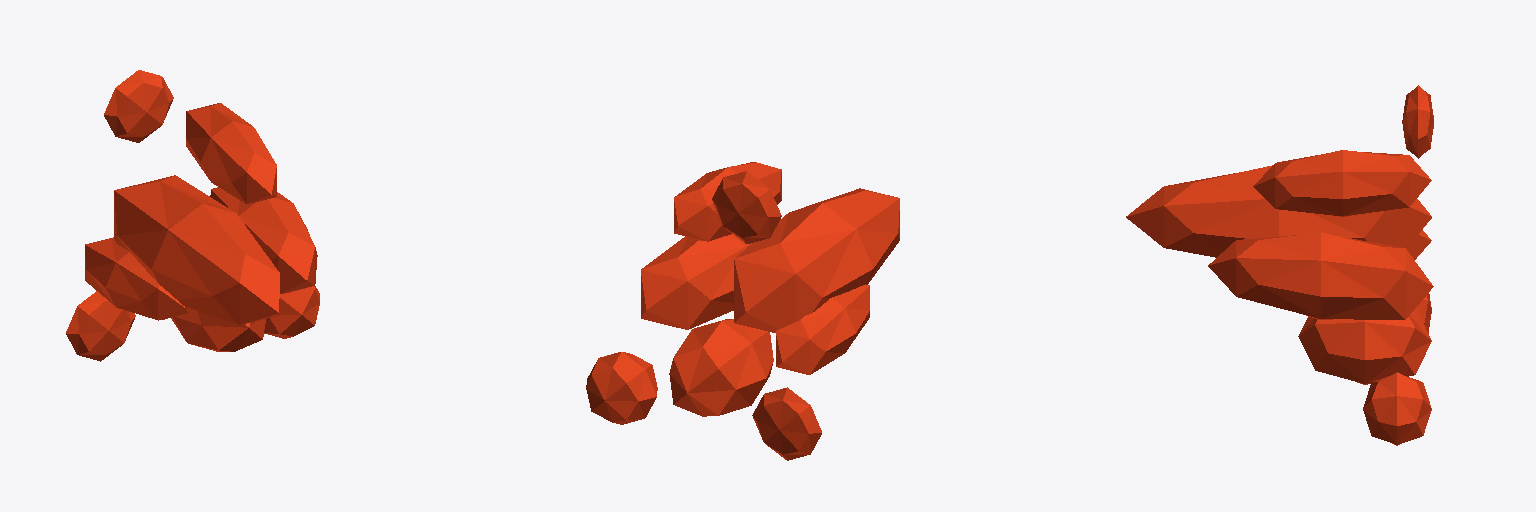
The model's file is rock3.obj.
The picture shows the model from 3 angles: view 1: azimuth 30°, elevation 25°; view 2: azimuth 150°, elevation 25°; view 3: azimuth 270°, elevation 25°; orthographic projection.
Parts seen in each view (by area): view 1: Cube.003; view 2: Cube.003; view 3: Cube.003.
Boxes of the visible parts, x1,y1,x2,y2 form: Cube.003: [66, 70, 319, 361]; Cube.003: [586, 162, 899, 460]; Cube.003: [1126, 85, 1433, 445].
Bounding box in the file's own units: 2.88 × 3.31 × 3.14.